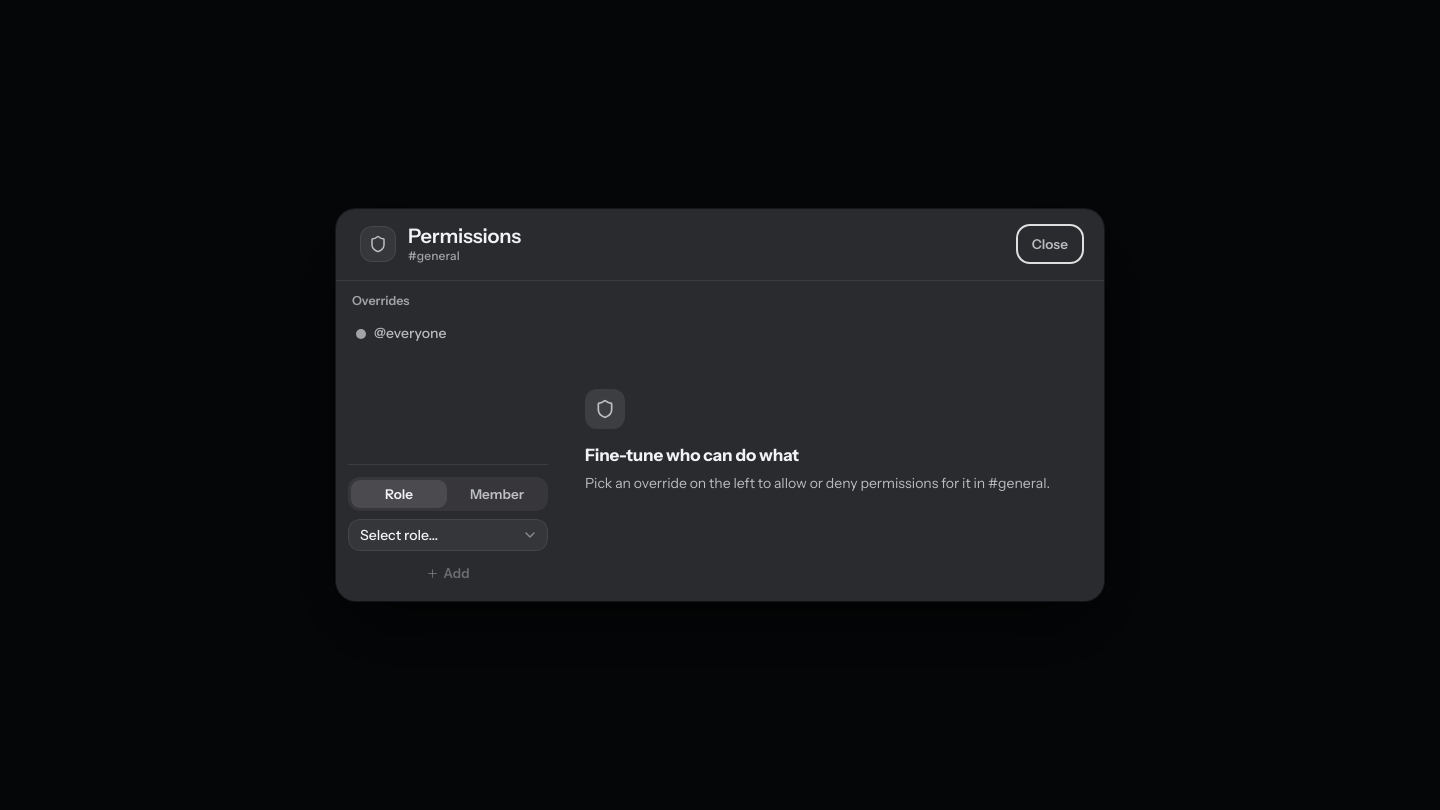
Test: ChannelPermissionsEditor › shows concrete API details when overwrite saving fails
Click the button "@everyone" at coordinates (448, 334), box x1=348 y1=316 x2=548 y2=352
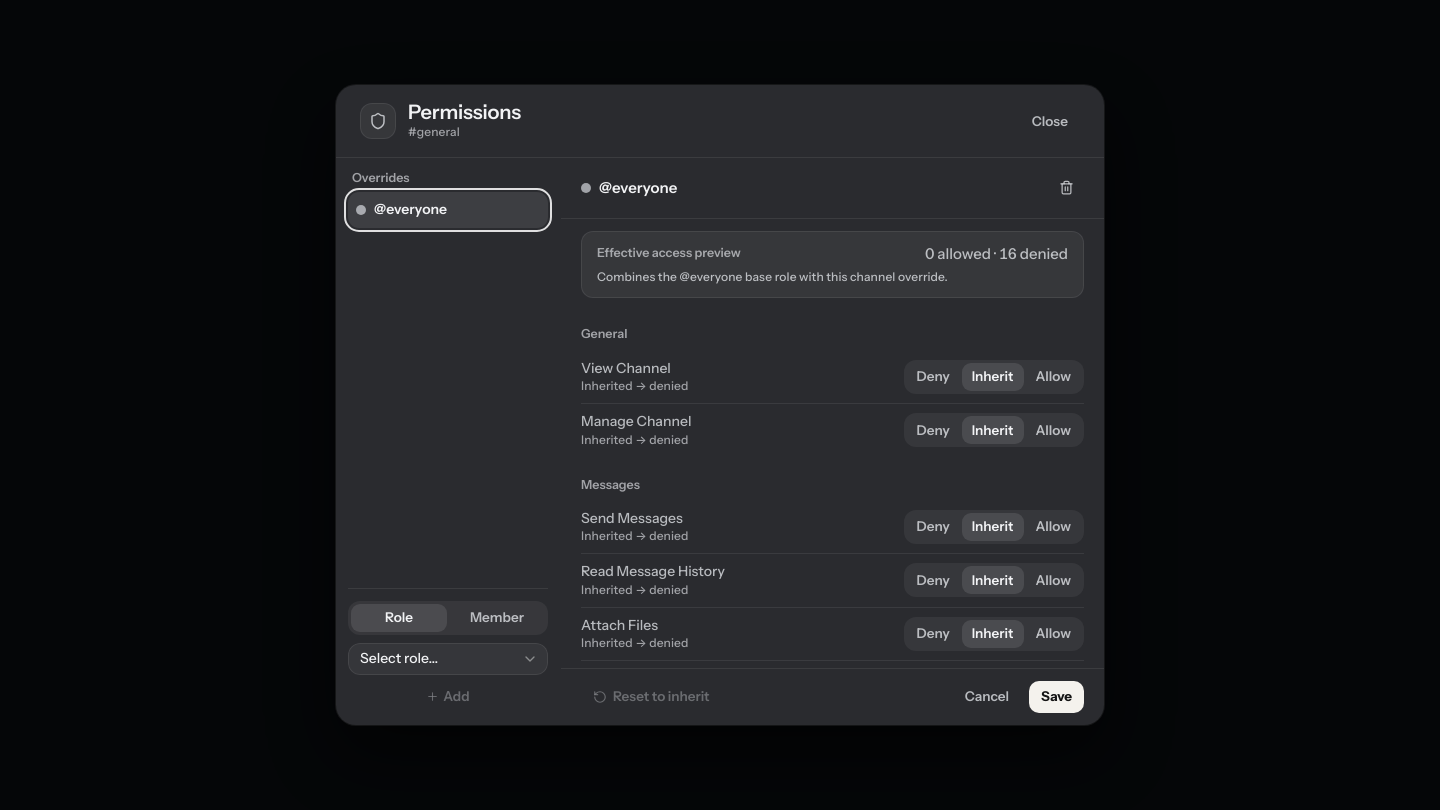
Click the button "Save" at coordinates (1057, 697), box x1=1029 y1=681 x2=1084 y2=713
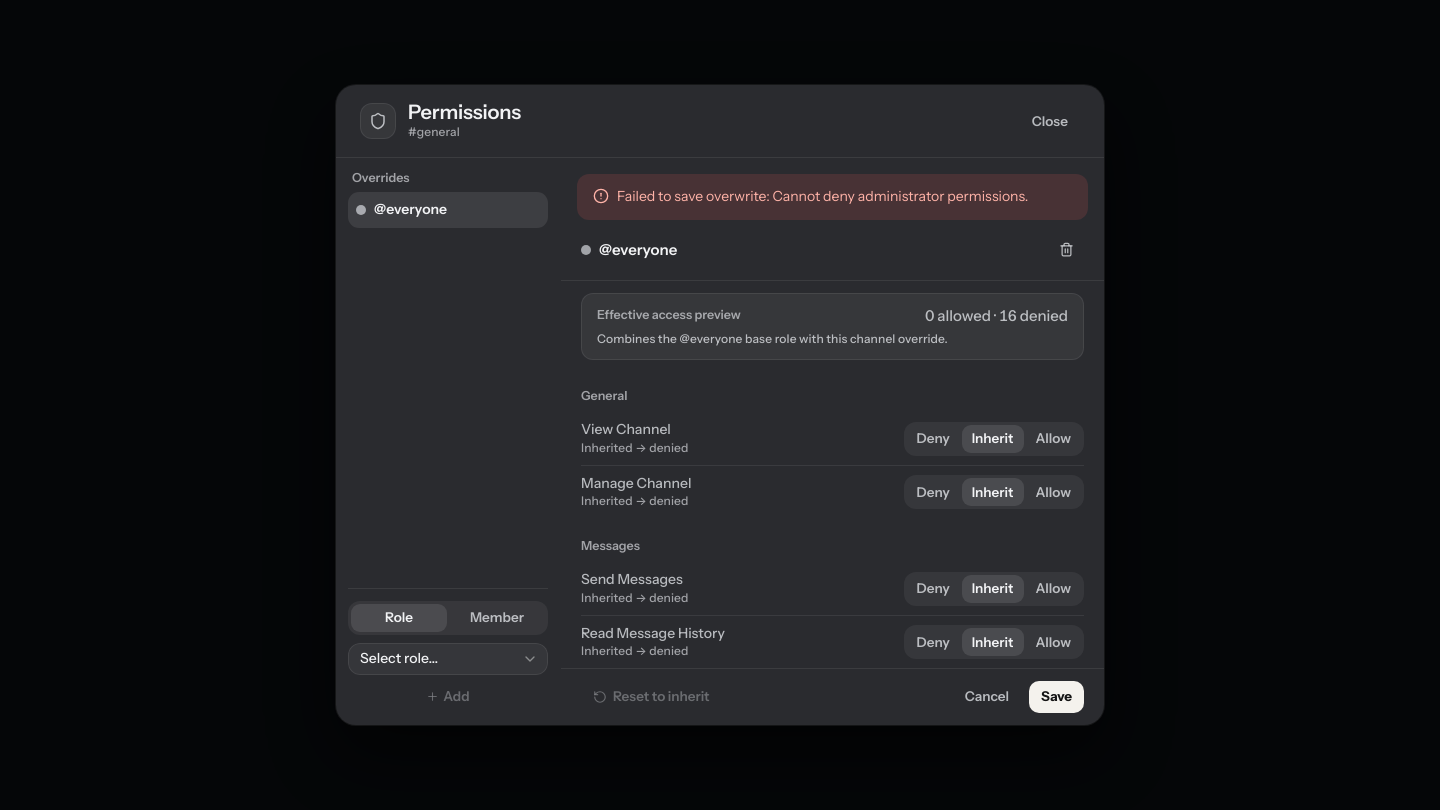
Expected: the message reads "Failed to save overwrite: Cannot deny administrator permissions.", x1=617 y1=187 x2=1028 y2=205
